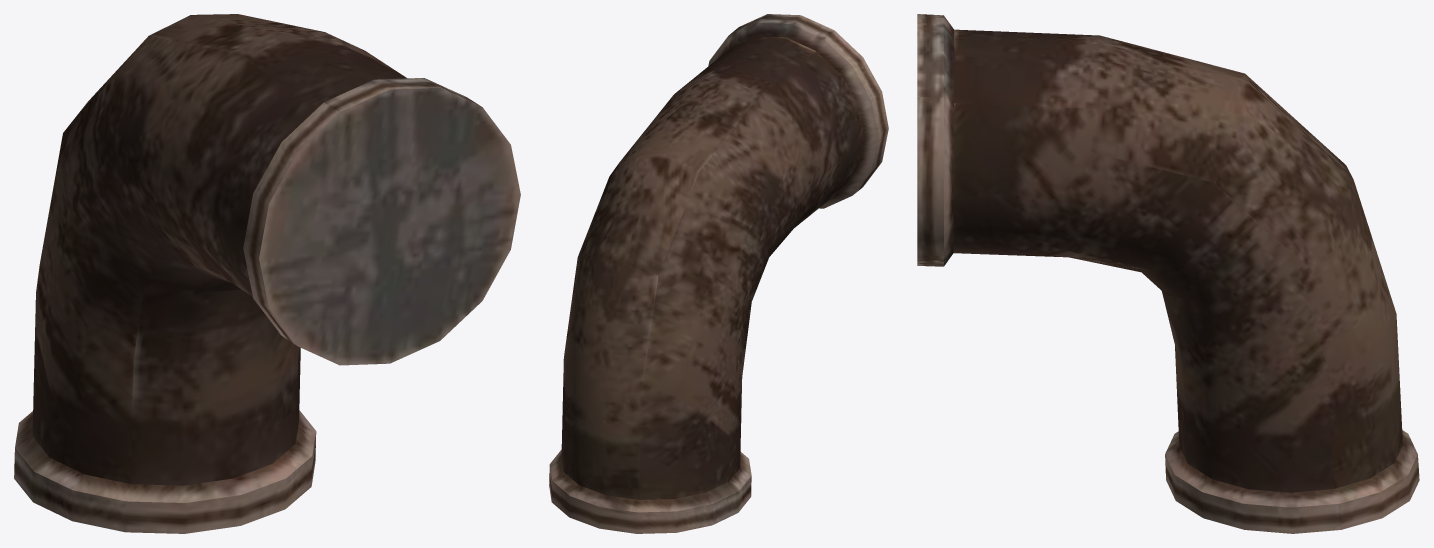
File: duct-pipe-elbow--1.gltf
The picture shows the model from 3 angles, left to right: view 1: azimuth 30°, elevation 25°; view 2: azimuth 150°, elevation 25°; view 3: azimuth 270°, elevation 25°; orthographic projection. The views are drawn at different scales.
Parts seen in each view (by area): view 1: Cylinder.002; view 2: Cylinder.002; view 3: Cylinder.002.
Part boxes in pixels (box(x1,y1,x2,y2)): Cylinder.002: box(14, 14, 520, 533); Cylinder.002: box(549, 14, 888, 533); Cylinder.002: box(917, 14, 1419, 533).
Bounding box in the file's own units: 1.26 × 2.5 × 2.5.
Materials: 1 (1 with a texture image).
